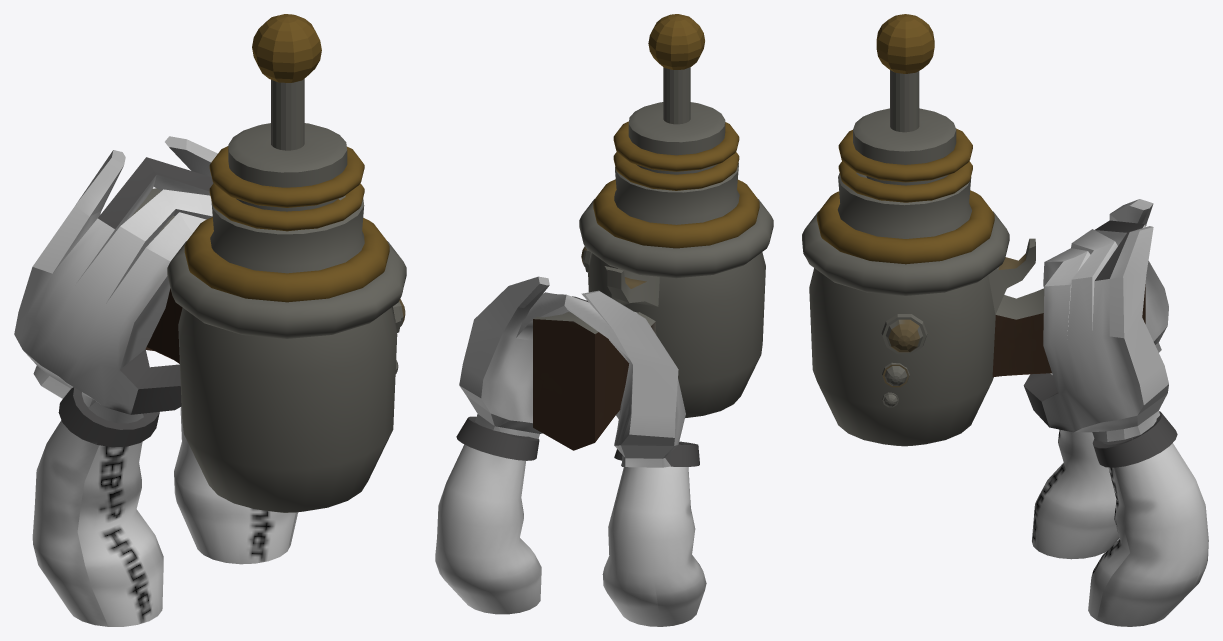
Rendered from HandsandRayGun-2.fbx.
The picture shows the model from 3 angles, left to right: view 1: azimuth 30°, elevation 25°; view 2: azimuth 150°, elevation 25°; view 3: azimuth 270°, elevation 25°; orthographic projection. The views are drawn at different scales.
Visible parts, largest first — view 1: top1, polySurface32, polySurface31, polySurface29, polySurface30; view 2: top1, polySurface29, polySurface31, polySurface30, polySurface32; view 3: top1, polySurface30, polySurface29, polySurface31, polySurface32.
Boxes of the visible parts, x1,y1,x2,y2 form: top1: (131, 14, 406, 512); polySurface32: (14, 150, 192, 414); polySurface31: (32, 387, 163, 626); polySurface29: (174, 406, 297, 564); polySurface30: (146, 136, 217, 233); top1: (533, 14, 773, 450); polySurface29: (435, 416, 541, 614); polySurface31: (602, 441, 706, 626); polySurface30: (459, 276, 587, 438); polySurface32: (564, 290, 685, 467); top1: (802, 14, 1145, 446); polySurface30: (1023, 224, 1168, 441); polySurface29: (1088, 411, 1208, 626); polySurface31: (1032, 429, 1119, 559); polySurface32: (1043, 199, 1168, 374).
Size of the model in its own units: 6.95 by 15.15 by 10.03.
Materials: 1 (1 with a texture image).
